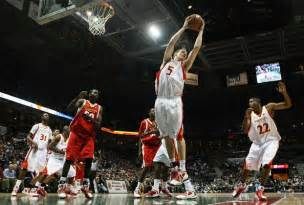basketball: (186, 13, 203, 30)
